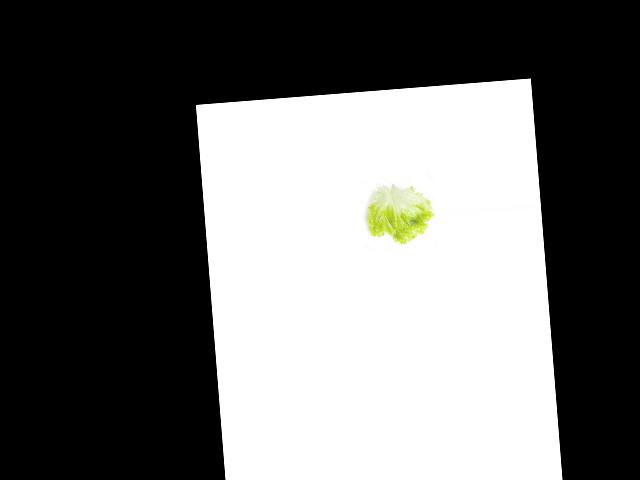lettuce: (358, 179, 437, 244)
